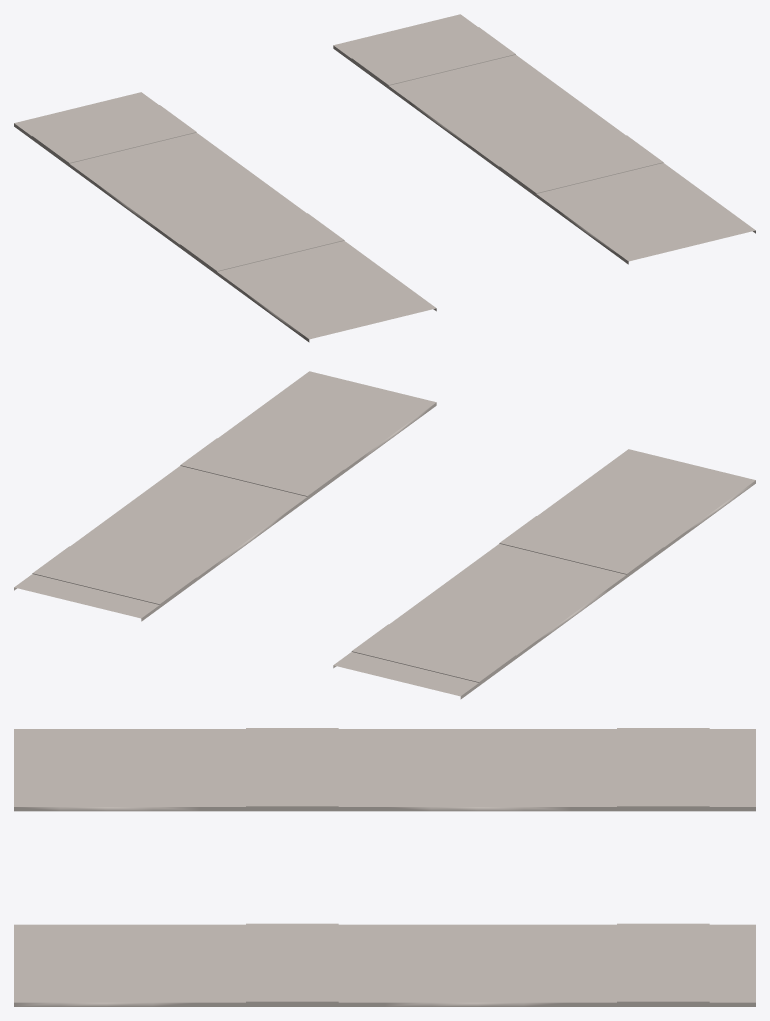
File: SideTile.fbx
3 views of the same model, one above another, from view 1: azimuth 30°, elevation 25°; view 2: azimuth 150°, elevation 25°; view 3: azimuth 270°, elevation 25° (orthographic). The views are drawn at different scales.
Visible parts, largest first — view 1: SideTile; view 2: SideTile; view 3: SideTile.
Boxes of the visible parts, x1,y1,x2,y2 form: SideTile: (14,14,755,342); SideTile: (14,371,755,699); SideTile: (14,728,755,1006).
Bounding box in the file's own units: 1396 × 12 × 1600.
1 material, 1 textured.
